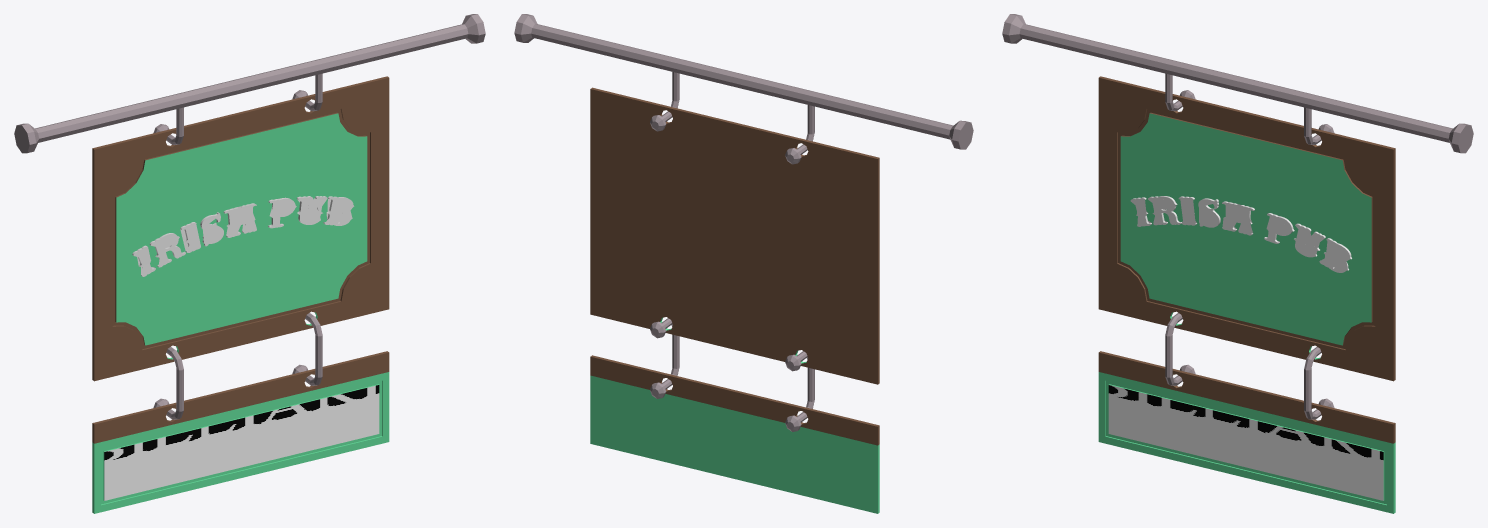
The model's file is OU_D_IrishPubSign_01.fbx.
The picture shows the model from 3 angles, left to right: view 1: azimuth 30°, elevation 25°; view 2: azimuth 150°, elevation 25°; view 3: azimuth 330°, elevation 25°; orthographic projection. The views are drawn at different scales.
Visible parts, largest first — view 1: Plane.009, Plane.012, Circle.020, Text.033, Circle.033; view 2: Plane.009, Plane.012, Circle.020, Circle.033; view 3: Plane.009, Plane.012, Circle.020, Text.033, Circle.033, Circle.031.
Boxes of the visible parts, box(x1,y1,x2,y2) form: Plane.009: box(92, 76, 389, 381); Plane.012: box(92, 351, 389, 513); Circle.020: box(14, 14, 485, 153); Text.033: box(132, 196, 354, 276); Circle.033: box(153, 313, 322, 419); Plane.009: box(590, 87, 879, 384); Plane.012: box(590, 355, 879, 513); Circle.020: box(514, 14, 973, 164); Circle.033: box(650, 318, 814, 431); Plane.009: box(1098, 76, 1395, 381); Plane.012: box(1098, 351, 1395, 513); Circle.020: box(1002, 14, 1473, 153); Text.033: box(1130, 196, 1351, 272); Circle.033: box(1165, 313, 1334, 419); Circle.031: box(1165, 74, 1334, 143).
Size of the model in its own units: 680 by 590 by 76.
